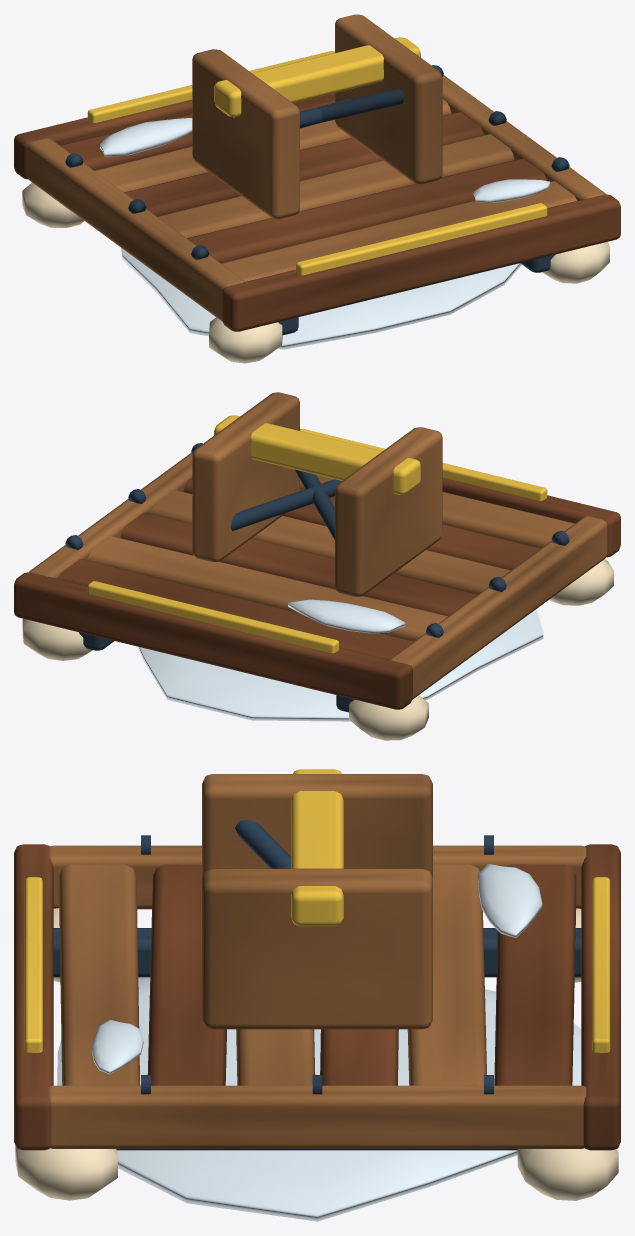
Rendered from pad_build.glb.
3 views of the same model, one above another, from view 1: azimuth 30°, elevation 25°; view 2: azimuth 150°, elevation 25°; view 3: azimuth 270°, elevation 25° (orthographic). The views are drawn at different scales.
Visible parts, largest first — view 1: pad_build; view 2: pad_build; view 3: pad_build.
Boxes of the visible parts, x1=… form: pad_build: x1=14, y1=14, x2=620, y2=363; pad_build: x1=14, y1=392, x2=620, y2=740; pad_build: x1=14, y1=769, x2=620, y2=1221.
Size of the model in its own units: 1.91 by 0.9105 by 1.84.
